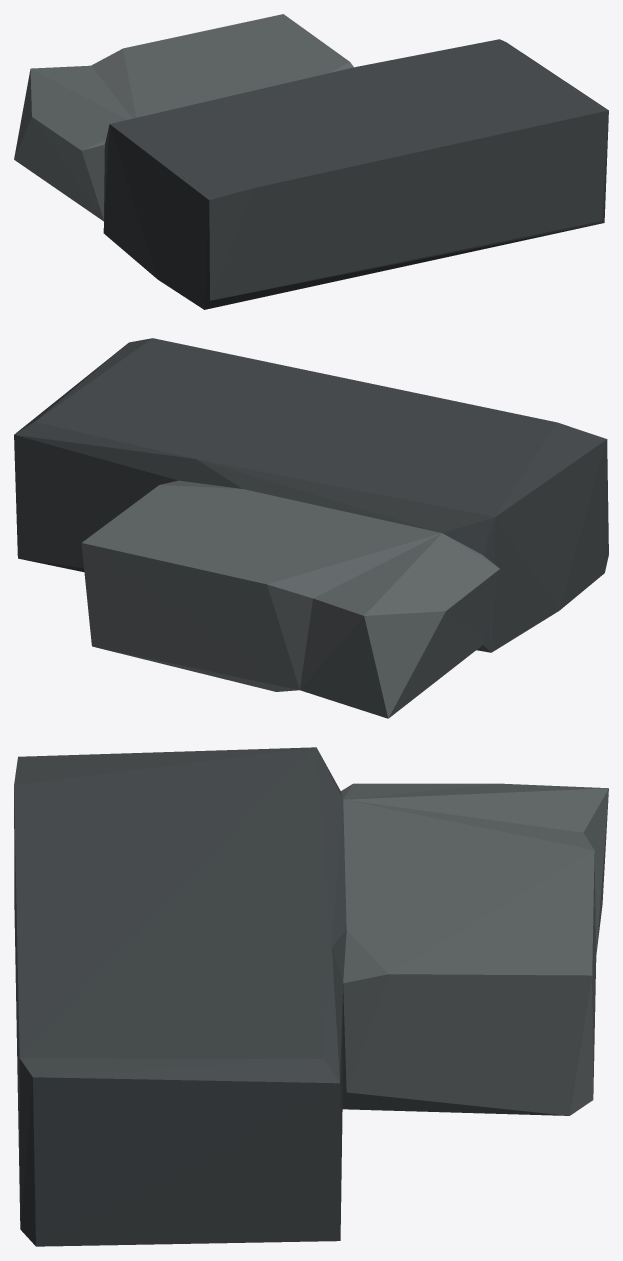
Rendered from MDungenon_StoneFloor_Parts_03.FBX.
3 renders of one model, top to bottom at view 1: azimuth 30°, elevation 25°; view 2: azimuth 150°, elevation 25°; view 3: azimuth 270°, elevation 25°, orthographic. The views are drawn at different scales.
Parts seen in each view (by area): view 1: MDungenon_StoneFloor_Parts_03_LOD0; view 2: MDungenon_StoneFloor_Parts_03_LOD0; view 3: MDungenon_StoneFloor_Parts_03_LOD0.
Boxes of the visible parts, x1,y1,x2,y2 form: MDungenon_StoneFloor_Parts_03_LOD0: (14,14,608,309); MDungenon_StoneFloor_Parts_03_LOD0: (14,338,608,718); MDungenon_StoneFloor_Parts_03_LOD0: (14,747,608,1246).
Size of what is drawn, in the model's own units: 2.42 by 0.7082 by 1.92.
